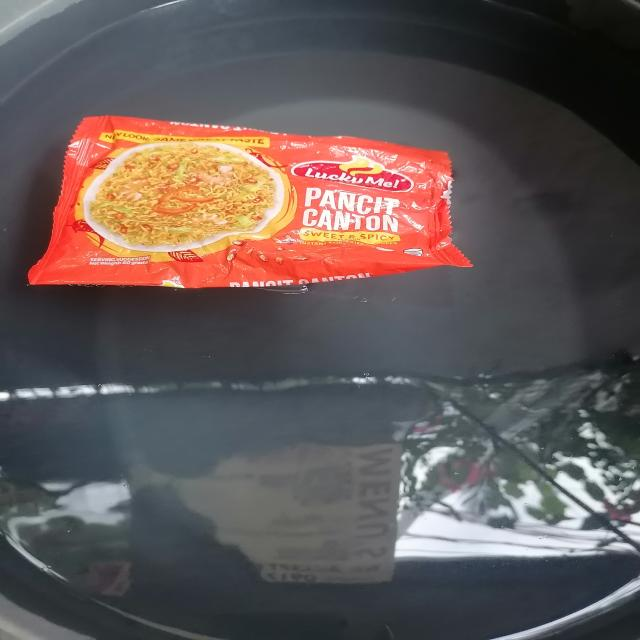Plastic Wrapper: (28, 116, 472, 288)
